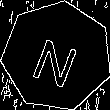N_N: (29, 26, 85, 87)
